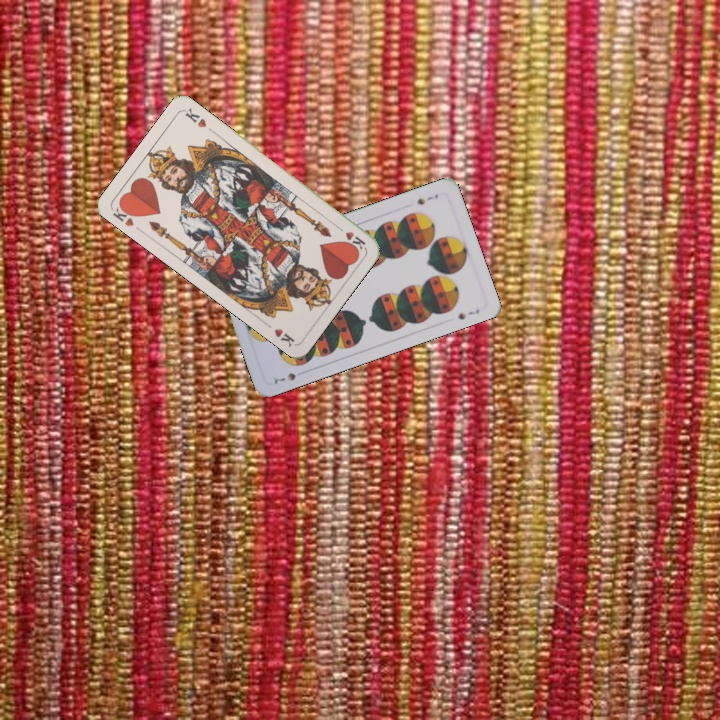HK: (332, 221, 368, 253), (108, 200, 139, 229)
S7: (270, 369, 299, 387), (413, 190, 441, 207)
